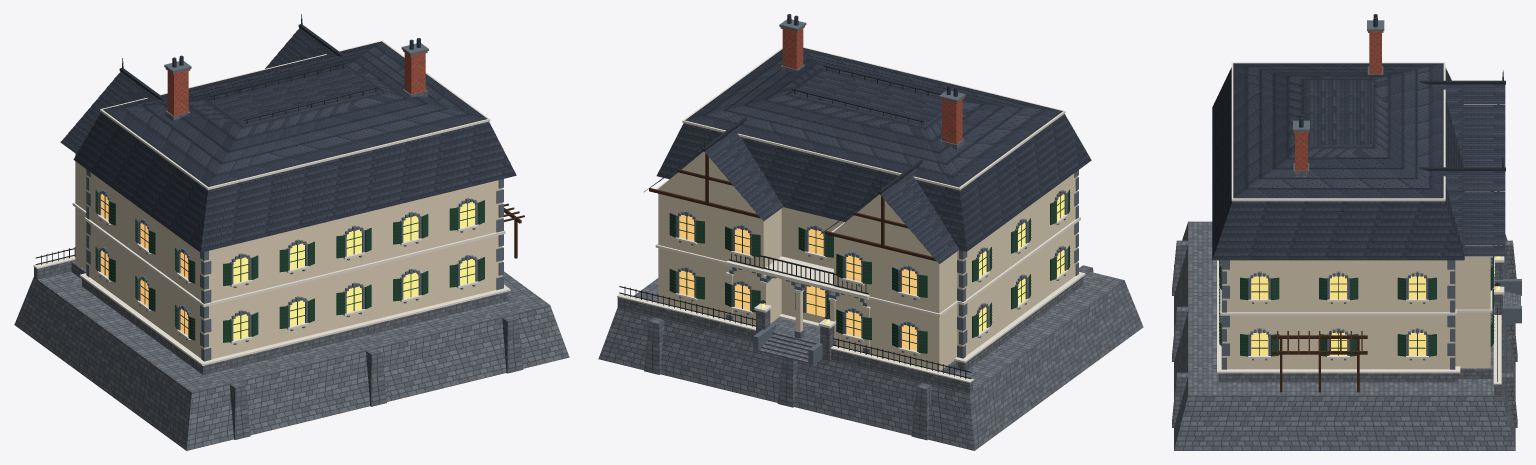
File: fv_ltk_04_ly_thuong_kiet_26_mansard_noble_manor.glb
3 views of the same model, side by side, from view 1: azimuth 30°, elevation 25°; view 2: azimuth 150°, elevation 25°; view 3: azimuth 270°, elevation 25° (orthographic).
Parts seen in each view (by area): view 1: Normandy_Brittany_Layered_Roof, Foundation_Skirt_Neg3p5m, Villa_Stucco_Walls, Molded_Cornices_And_Sills, PineGreen_Louvered_Shutters, Stone_Quoins_And_Arches, Warm_Night_Windows_20h00_Blend, Brick_Chimney_Stacks, Wrought_Iron_Balustrades_And_Gate, Roof_Ridges_Caps_And_Finials; view 2: Normandy_Brittany_Layered_Roof, Foundation_Skirt_Neg3p5m, Villa_Stucco_Walls, Molded_Cornices_And_Sills, Stone_Quoins_And_Arches, PineGreen_Louvered_Shutters, Warm_Night_Windows_20h00_Blend, Wrought_Iron_Balustrades_And_Gate, Brick_Chimney_Stacks, Exposed_Timber_Trusses_And_Rafters, Roof_Ridges_Caps_And_Finials; view 3: Normandy_Brittany_Layered_Roof, Foundation_Skirt_Neg3p5m, Villa_Stucco_Walls, Molded_Cornices_And_Sills, Stone_Quoins_And_Arches, PineGreen_Louvered_Shutters, Warm_Night_Windows_20h00_Blend, Exposed_Timber_Trusses_And_Rafters, Brick_Chimney_Stacks, Roof_Ridges_Caps_And_Finials.
Boxes of the visible parts, left/top/right/bottom form: Normandy_Brittany_Layered_Roof: left=60, top=28, right=516, bottom=252; Foundation_Skirt_Neg3p5m: left=14, top=89, right=569, bottom=450; Villa_Stucco_Walls: left=75, top=153, right=502, bottom=359; Molded_Cornices_And_Sills: left=33, top=40, right=510, bottom=365; PineGreen_Louvered_Shutters: left=95, top=189, right=484, bottom=342; Stone_Quoins_And_Arches: left=86, top=43, right=503, bottom=361; Warm_Night_Windows_20h00_Blend: left=101, top=194, right=475, bottom=340; Brick_Chimney_Stacks: left=165, top=50, right=427, bottom=115; Wrought_Iron_Balustrades_And_Gate: left=35, top=63, right=378, bottom=264; Roof_Ridges_Caps_And_Finials: left=119, top=14, right=345, bottom=100; Normandy_Brittany_Layered_Roof: left=645, top=14, right=1091, bottom=263; Foundation_Skirt_Neg3p5m: left=598, top=64, right=1143, bottom=450; Villa_Stucco_Walls: left=657, top=151, right=1077, bottom=370; Molded_Cornices_And_Sills: left=617, top=47, right=1085, bottom=382; Stone_Quoins_And_Arches: left=676, top=19, right=1078, bottom=365; PineGreen_Louvered_Shutters: left=669, top=189, right=1070, bottom=353; Warm_Night_Windows_20h00_Blend: left=679, top=194, right=1064, bottom=351; Wrought_Iron_Balustrades_And_Gate: left=619, top=65, right=971, bottom=379; Brick_Chimney_Stacks: left=780, top=26, right=964, bottom=144; Exposed_Timber_Trusses_And_Rafters: left=649, top=153, right=936, bottom=261; Roof_Ridges_Caps_And_Finials: left=644, top=117, right=923, bottom=234; Normandy_Brittany_Layered_Roof: left=1212, top=14, right=1505, bottom=260; Foundation_Skirt_Neg3p5m: left=1172, top=66, right=1520, bottom=450; Villa_Stucco_Walls: left=1222, top=191, right=1490, bottom=369; Molded_Cornices_And_Sills: left=1217, top=62, right=1504, bottom=384; Stone_Quoins_And_Arches: left=1220, top=20, right=1521, bottom=369; PineGreen_Louvered_Shutters: left=1219, top=191, right=1494, bottom=356; Warm_Night_Windows_20h00_Blend: left=1251, top=256, right=1499, bottom=355; Exposed_Timber_Trusses_And_Rafters: left=1272, top=104, right=1499, bottom=392; Brick_Chimney_Stacks: left=1293, top=31, right=1383, bottom=170; Roof_Ridges_Caps_And_Finials: left=1418, top=70, right=1505, bottom=171.
Bounding box in the file's own units: 28.52 × 20.7 × 22.32.
12 materials, 3 textured.
